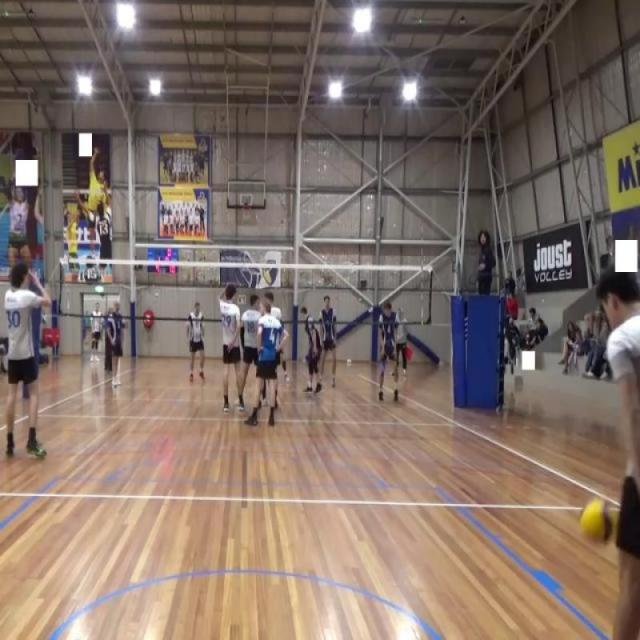volleyball: (577, 495, 619, 551)
